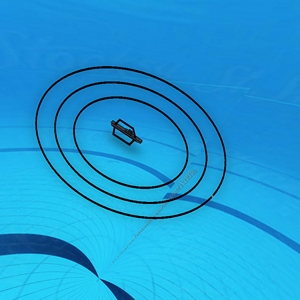circle: (24, 54, 227, 222)
submarine: (110, 118, 142, 148)
